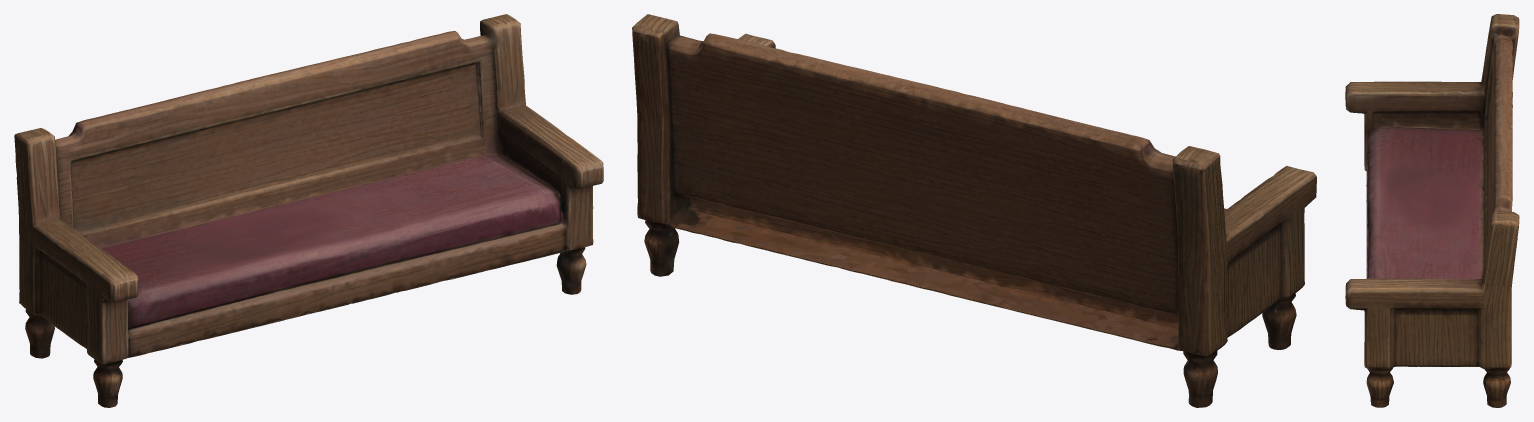
The model's file is Furn_HallBench.fbx.
3 views of the same model, side by side, from view 1: azimuth 30°, elevation 25°; view 2: azimuth 150°, elevation 25°; view 3: azimuth 270°, elevation 25° (orthographic). The views are drawn at different scales.
Parts seen in each view (by area): view 1: texture_mapping; view 2: texture_mapping; view 3: texture_mapping.
Part boxes in pixels (left/top/right/bottom): texture_mapping: left=14, top=14, right=603, bottom=407; texture_mapping: left=632, top=14, right=1316, bottom=407; texture_mapping: left=1345, top=14, right=1519, bottom=407.
Bounding box in the file's own units: 0.9985 × 0.3516 × 0.4249.
1 material, 1 textured.
